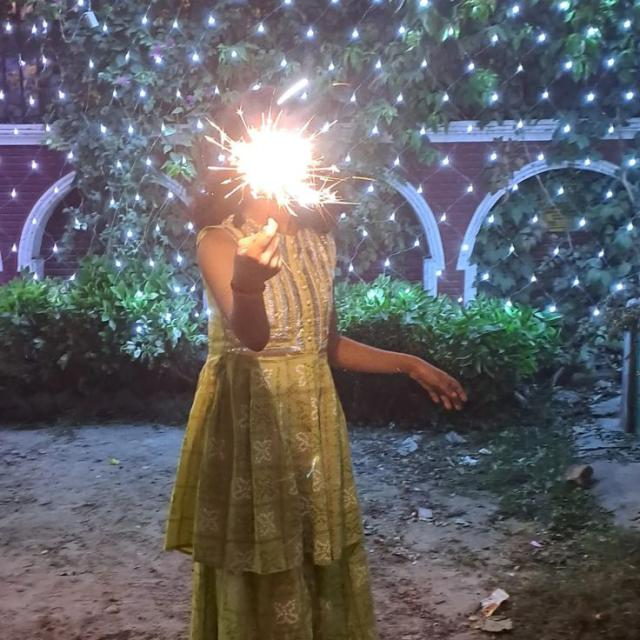fire: (228, 126, 319, 206)
